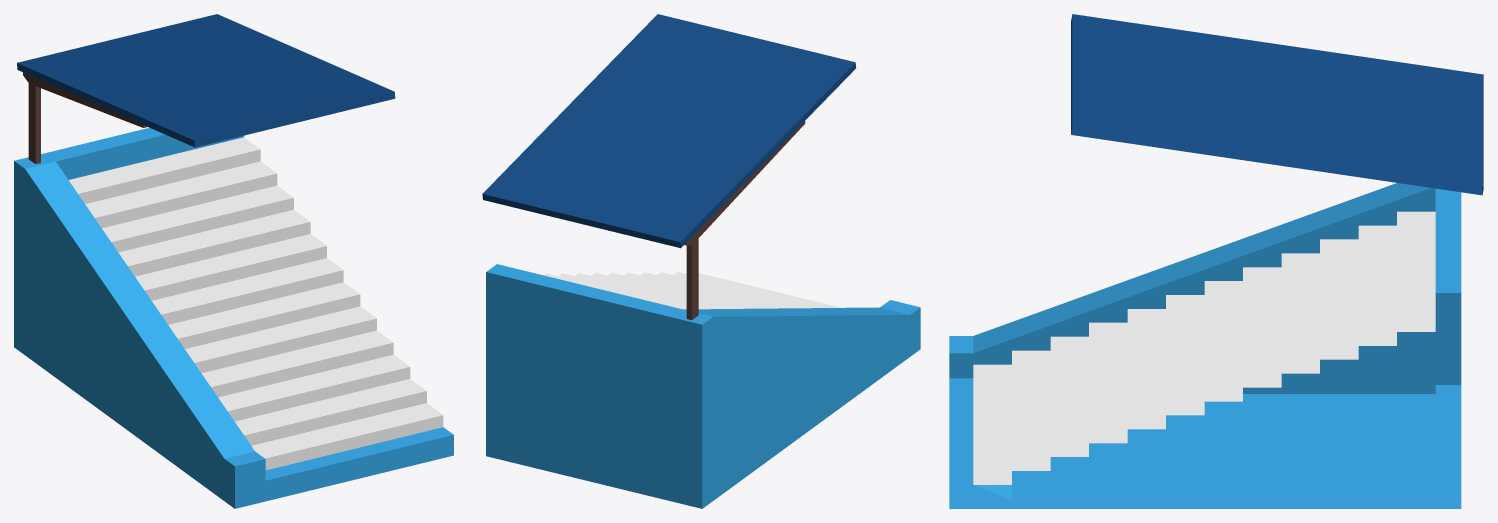
The model's file is stadium_stands_left.fbx.
The picture shows the model from 3 angles, left to right: view 1: azimuth 30°, elevation 25°; view 2: azimuth 150°, elevation 25°; view 3: azimuth 270°, elevation 25°; orthographic projection. The views are drawn at different scales.
Visible parts, largest first — view 1: stadium_stands_left; view 2: stadium_stands_left; view 3: stadium_stands_left.
Boxes of the visible parts, bbox=[...] form: stadium_stands_left: bbox=[14, 14, 453, 508]; stadium_stands_left: bbox=[482, 14, 920, 508]; stadium_stands_left: bbox=[949, 14, 1483, 508].
Bounding box in the file's own units: 858 × 1223 × 1566.
